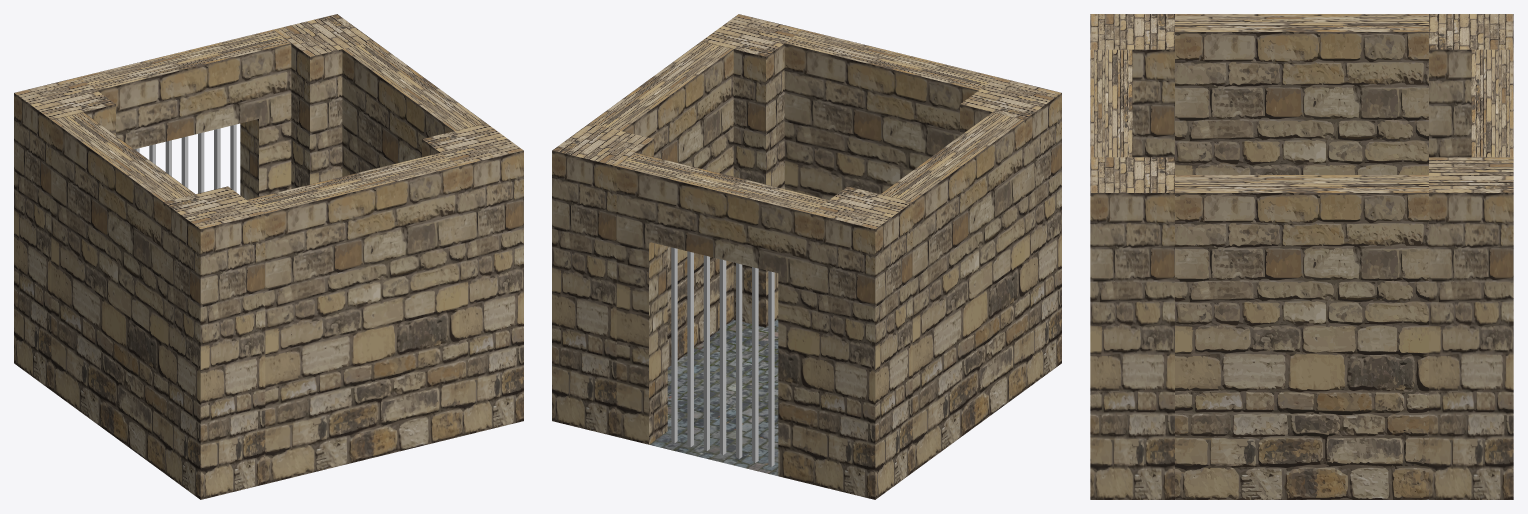
File: 1_singleCap.fbx
The picture shows the model from 3 angles, left to right: view 1: azimuth 30°, elevation 25°; view 2: azimuth 150°, elevation 25°; view 3: azimuth 270°, elevation 25°; orthographic projection. The views are drawn at different scales.
Parts seen in each view (by area): view 1: Cube_2; view 2: Cube_2, Plane, Cylinder_3, Cylinder_6, Cylinder_5, Cylinder_4, Cylinder, Cylinder_2, Cylinder_1; view 3: Cube_2.
Part boxes in pixels (x1,y1,x2,y2): Cube_2: (14,14,523,499); Cube_2: (552,14,1061,499); Plane: (649,319,778,475); Cylinder_3: (719,259,726,454); Cylinder_6: (671,247,677,443); Cylinder_5: (687,251,693,447); Cylinder_4: (703,255,709,450); Cylinder: (768,271,774,466); Cylinder_2: (736,263,742,458); Cylinder_1: (752,267,758,462); Cube_2: (1090,14,1513,499).
Size of the model in its own units: 10 by 8 by 10.
Materials: 3 (3 with a texture image).
